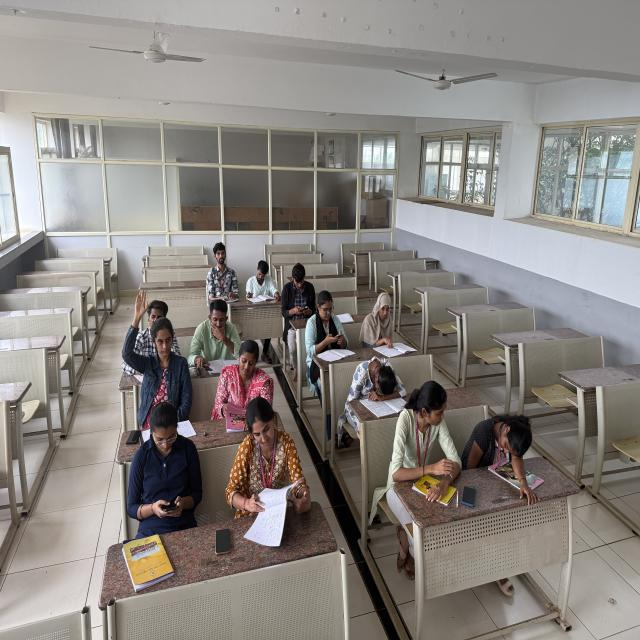Hand Rising: (108, 282, 197, 419)
Reading: (221, 328, 271, 447)
Sleeping: (465, 372, 531, 473), (343, 347, 406, 434)
Using Phone: (137, 414, 217, 531), (310, 282, 357, 374), (188, 294, 236, 381), (278, 242, 322, 332)
Writing: (230, 395, 300, 535), (346, 275, 418, 364), (243, 240, 282, 316)
